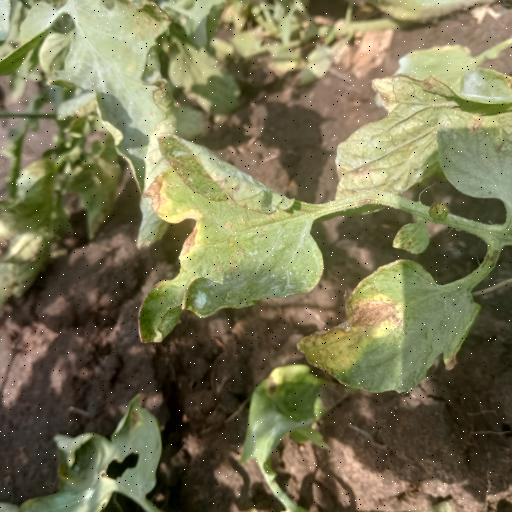Tomato_Brown_Spots: (135, 124, 325, 348), (298, 255, 493, 399)
